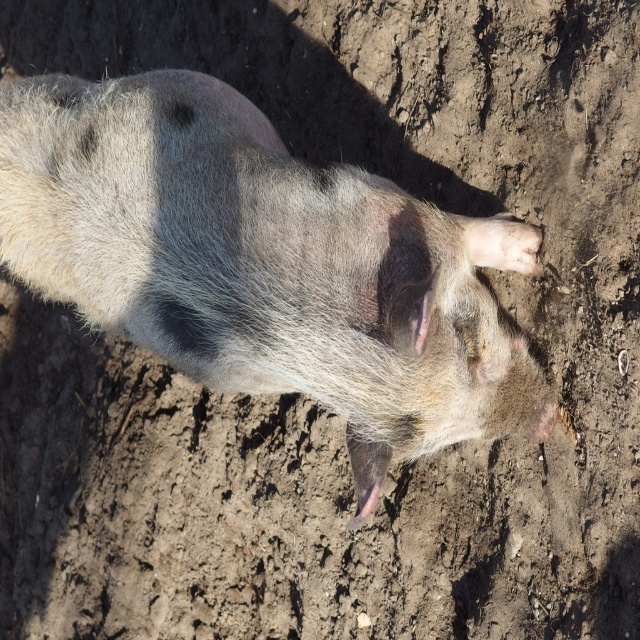Pig: (0, 63, 559, 530)
